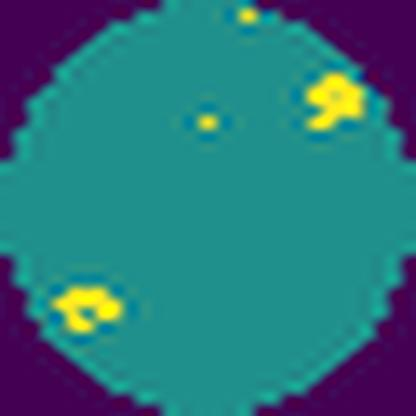Loc: (49, 275, 126, 343), (298, 74, 366, 133)
